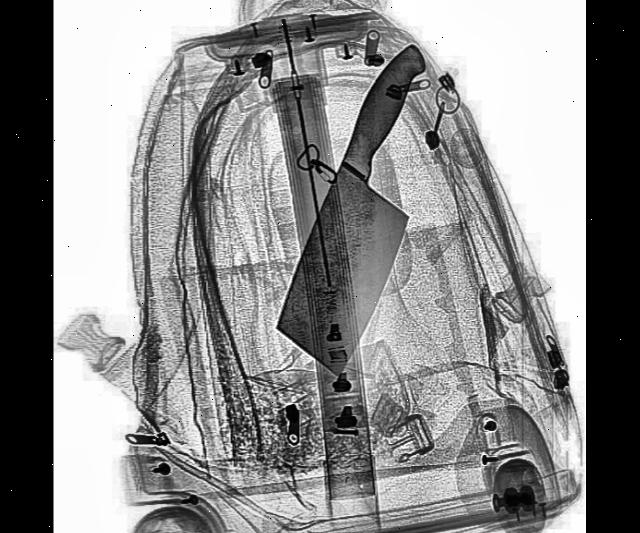Knife: (267, 30, 472, 384)
